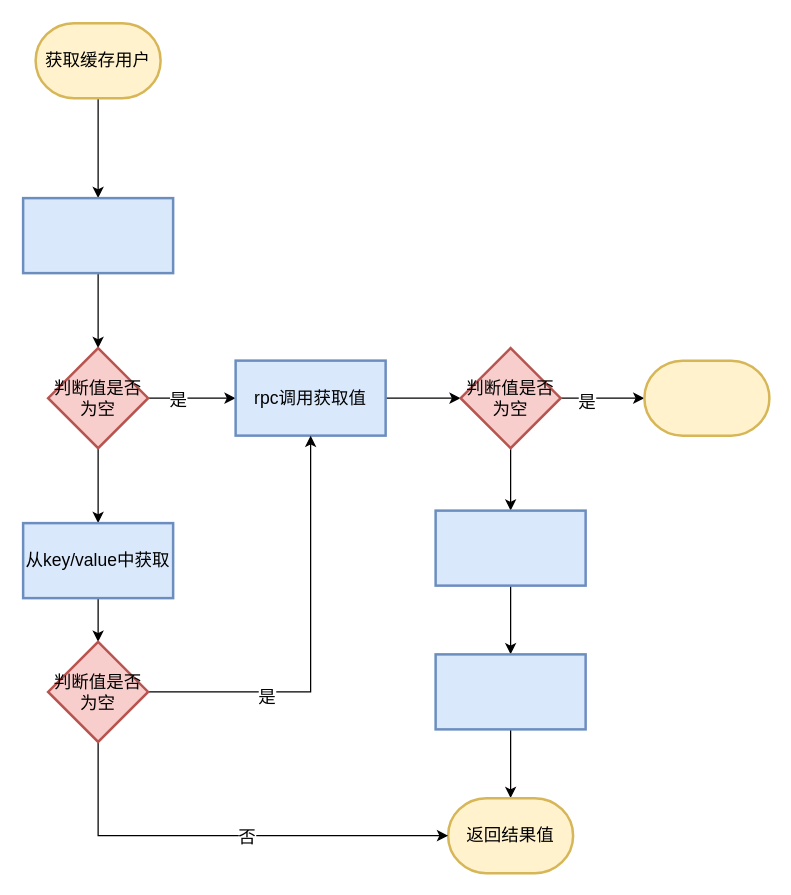
The diagram is 791 pixels wide and 895 high, and some of its shapes have lost their labels. The centre of each missing label's shape, as x and y in pixels:
"从map中获取" goes at (97,235).
"写入key/value" goes at (510,691).
"写入map" goes at (510,547).
"直接返回空值" goes at (706,397).
